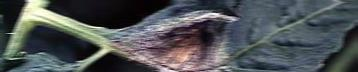Tomato leaf late blight: (111, 0, 358, 72)
